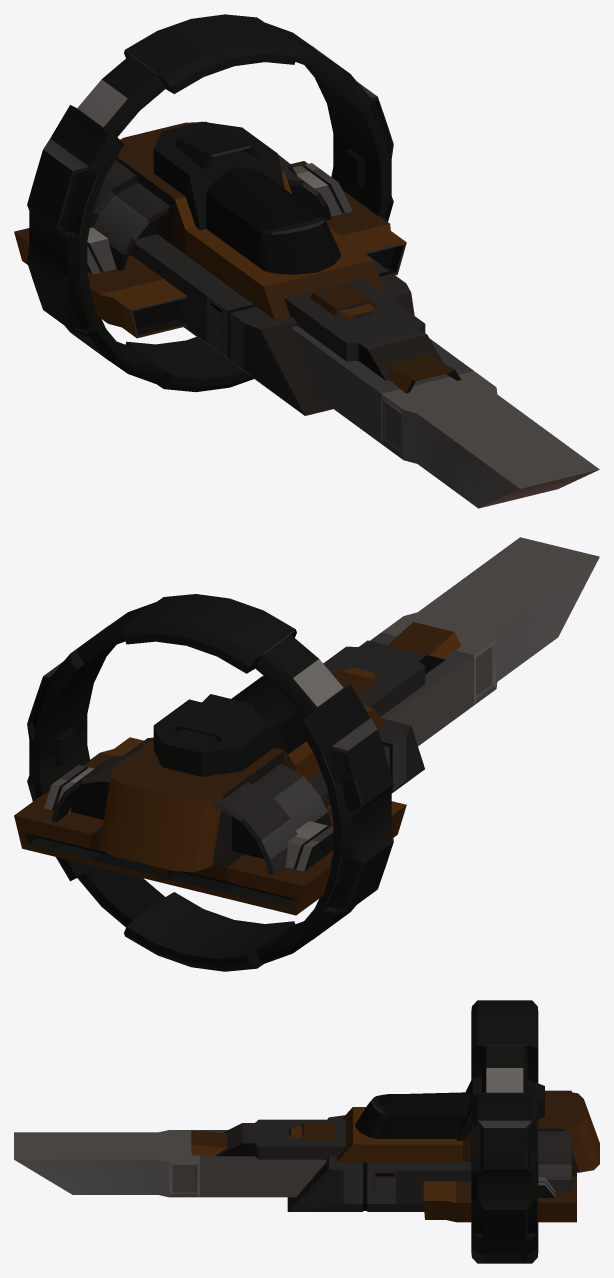
Rendered from zenith.obj.
3 renders of one model, top to bottom at view 1: azimuth 30°, elevation 25°; view 2: azimuth 150°, elevation 25°; view 3: azimuth 270°, elevation 25°, orthographic. The views are drawn at different scales.
Visible parts, largest first — view 1: Zenith_Cube.016; view 2: Zenith_Cube.016; view 3: Zenith_Cube.016.
Boxes of the visible parts, x1,y1,x2,y2 form: Zenith_Cube.016: [14, 14, 599, 508]; Zenith_Cube.016: [14, 537, 599, 971]; Zenith_Cube.016: [14, 1000, 599, 1263].
Size of the model in its own units: 5.63 by 5.43 by 12.07.
